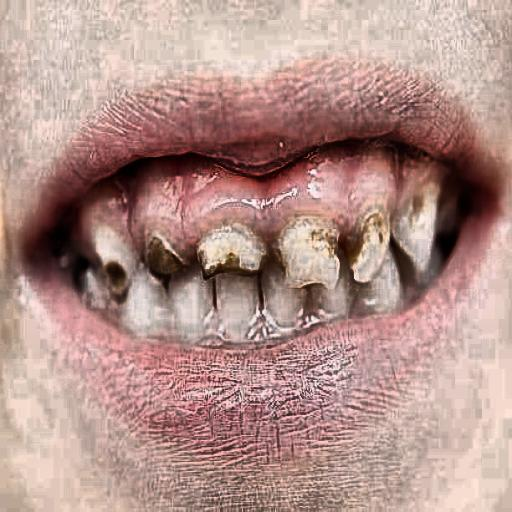Gingivitis: (129, 149, 398, 225)
